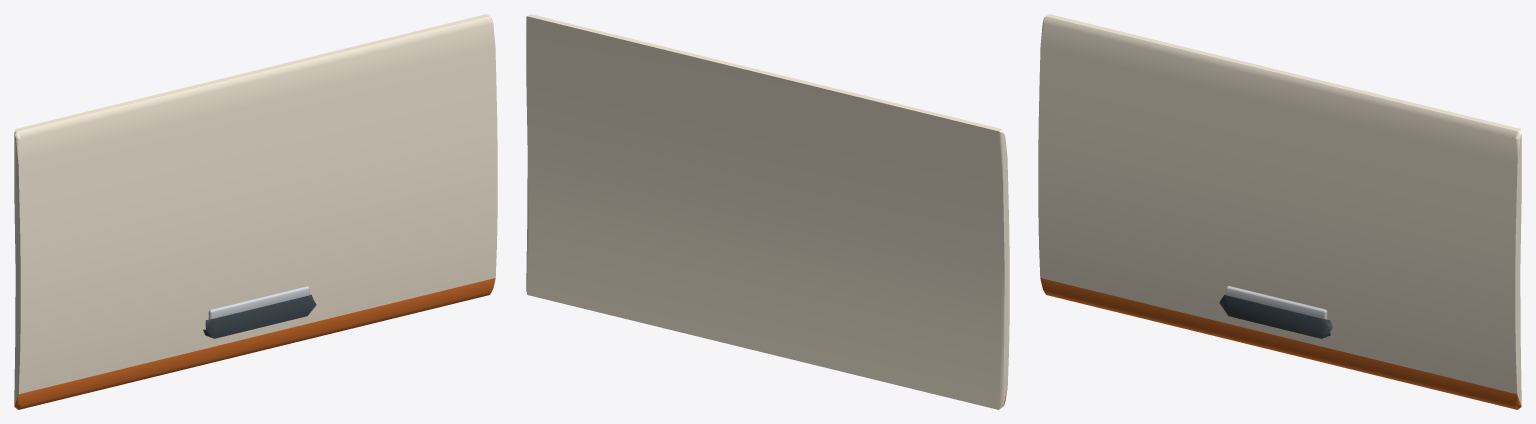
File: PuertaAltillo.fbx
3 renders of one model, left to right at view 1: azimuth 30°, elevation 25°; view 2: azimuth 150°, elevation 25°; view 3: azimuth 330°, elevation 25°, orthographic.
Parts seen in each view (by area): view 1: PuertaAltillo; view 2: PuertaAltillo; view 3: PuertaAltillo.
Boxes of the visible parts, left/top/right/bottom form: PuertaAltillo: left=14, top=14, right=497, bottom=409; PuertaAltillo: left=526, top=14, right=1009, bottom=409; PuertaAltillo: left=1038, top=14, right=1521, bottom=409.
Size of the model in its own units: 4.3 by 2.4 by 0.1654.
1 material, 1 textured.
